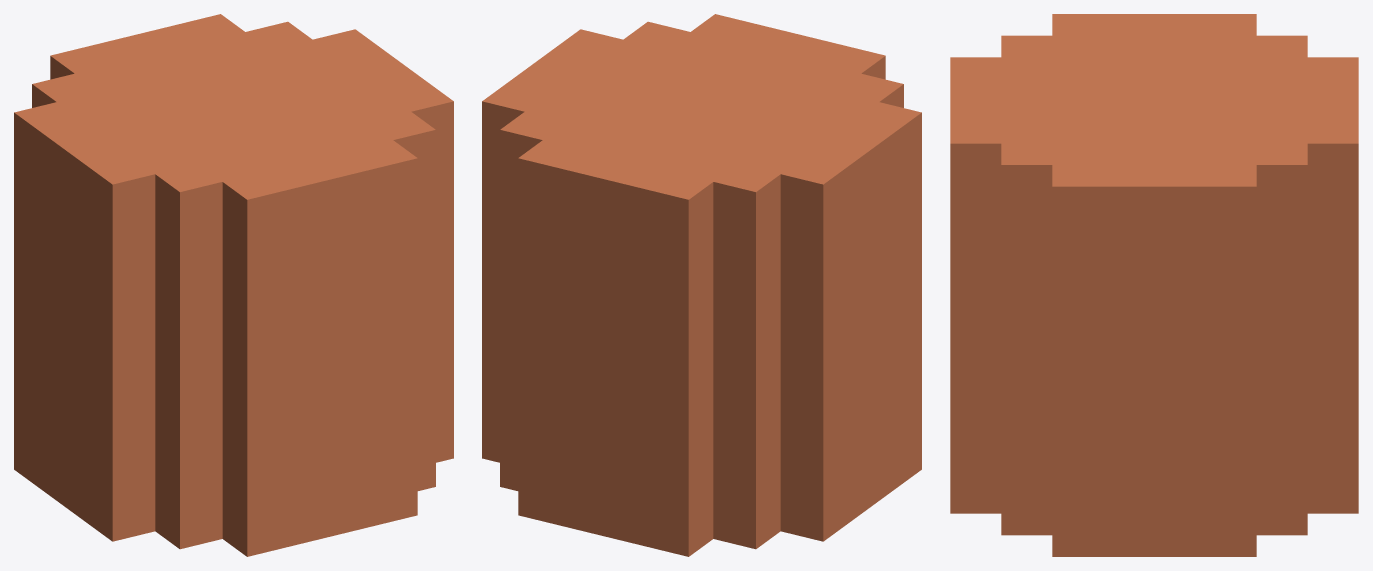
Rendered from brown-trunk-block.glb.
3 renders of one model, left to right at view 1: azimuth 30°, elevation 25°; view 2: azimuth 150°, elevation 25°; view 3: azimuth 270°, elevation 25°, orthographic. The views are drawn at different scales.
Visible parts, largest first — view 1: generated(Clone); view 2: generated(Clone); view 3: generated(Clone).
Part boxes in pixels (<box>): generated(Clone): <box>14,14,453,556</box>; generated(Clone): <box>482,14,921,556</box>; generated(Clone): <box>950,14,1358,556</box>.
Bounding box in the file's own units: 8 × 8 × 8.
Materials: 1 (1 with a texture image).
